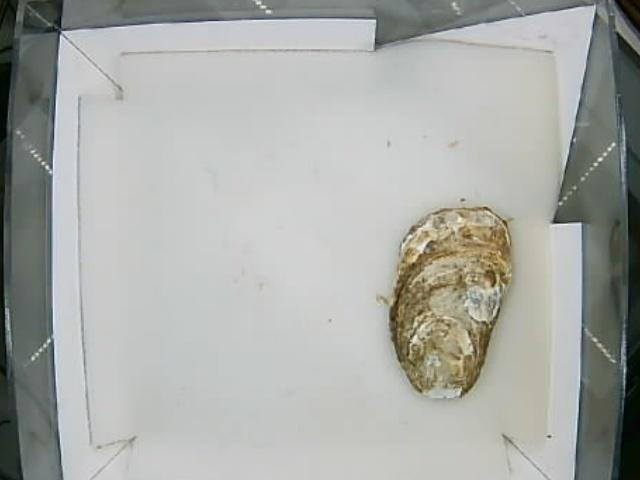Shell: (390, 208, 515, 397)
